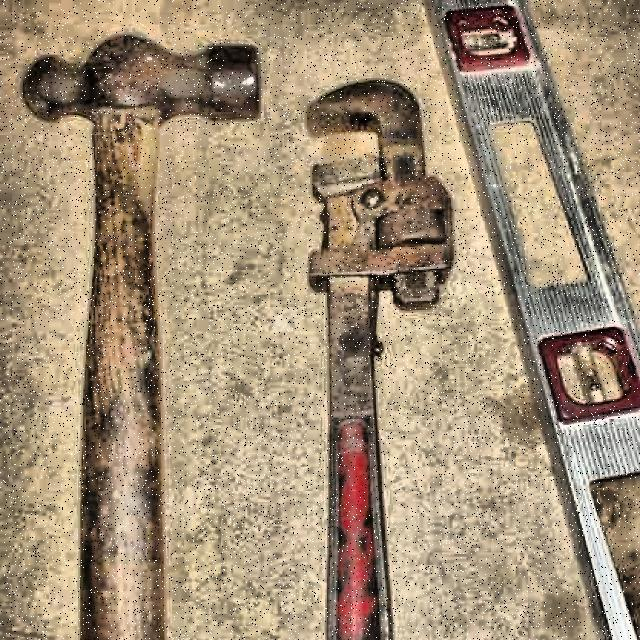hammer: (18, 31, 260, 640)
